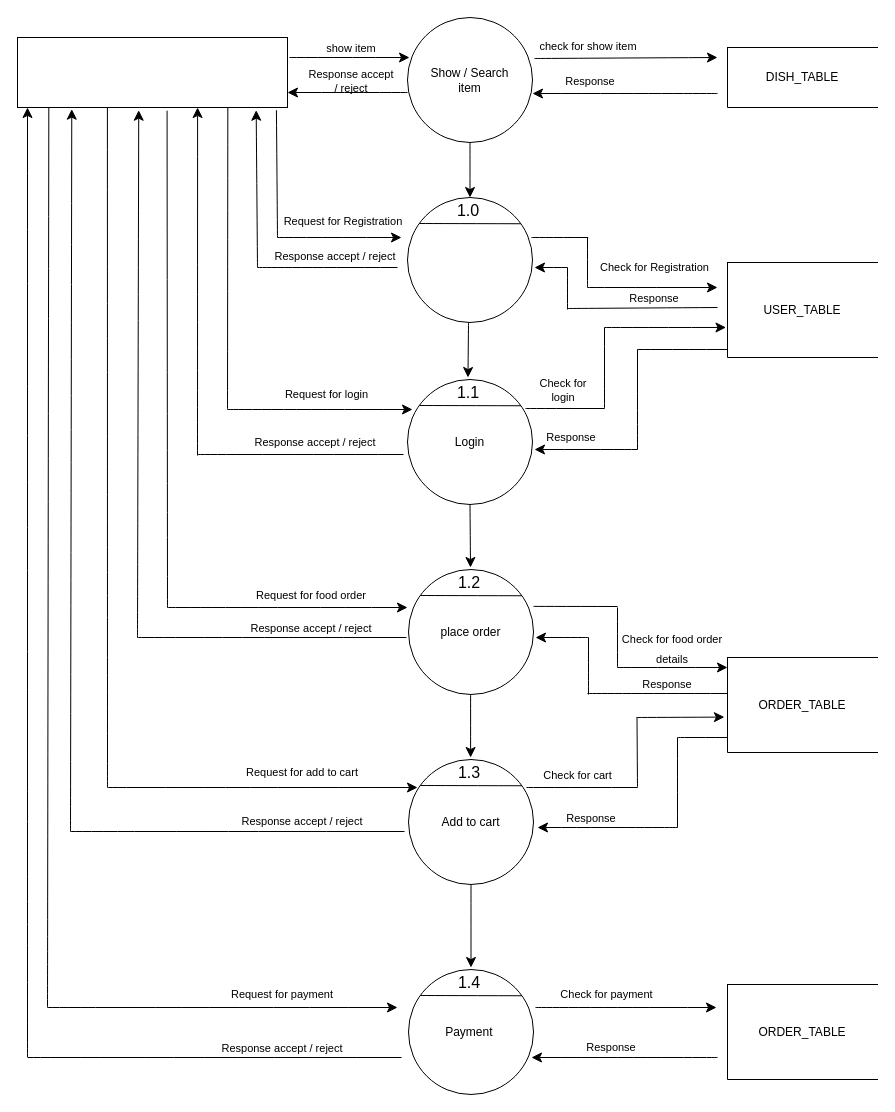
This 895x1112 diagram has some shape labels left out. The box of each missing label's shape, as (x1, y1, x2, y2) in pixels:
Customer: (16, 36, 288, 108)
register: (406, 196, 532, 322)
